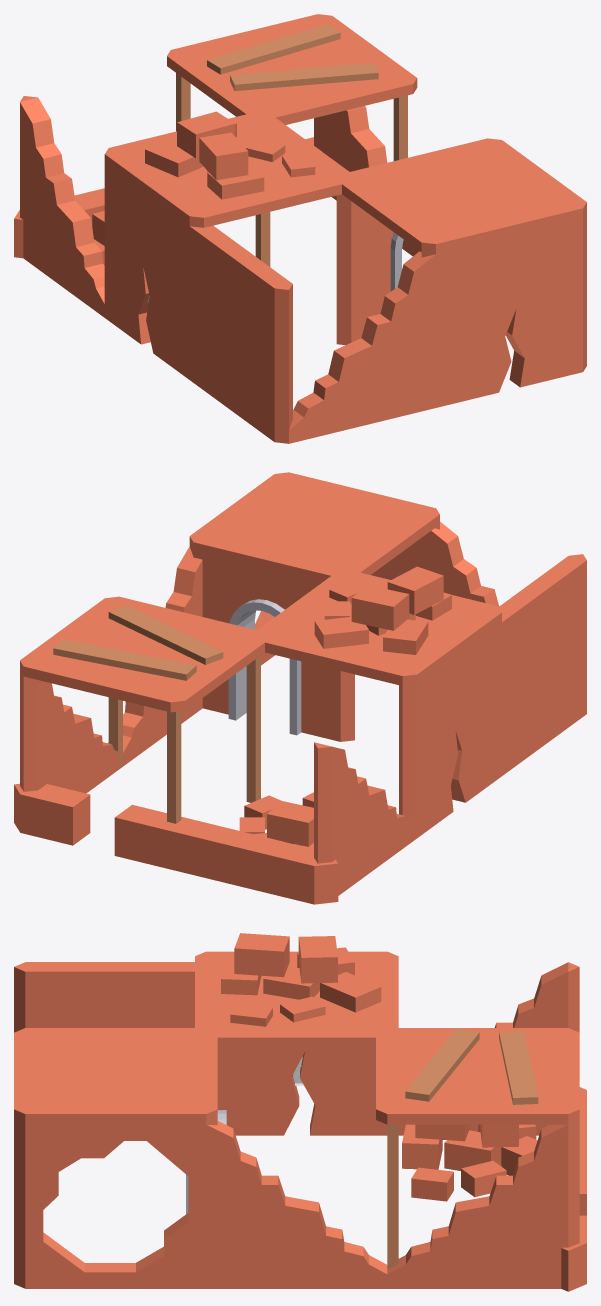
File: Casa7SemiRota.FBX
3 renders of one model, top to bottom at view 1: azimuth 30°, elevation 25°; view 2: azimuth 150°, elevation 25°; view 3: azimuth 270°, elevation 25°, orthographic. The views are drawn at different scales.
Visible parts, largest first — view 1: floor_square_124; view 2: floor_square_124; view 3: floor_square_124.
Part boxes in pixels (x1=…): floor_square_124: x1=14, y1=14, x2=586, y2=443; floor_square_124: x1=14, y1=472, x2=586, y2=904; floor_square_124: x1=14, y1=933, x2=586, y2=1291.
Size of the model in its own units: 2205 by 1312 by 3165.
